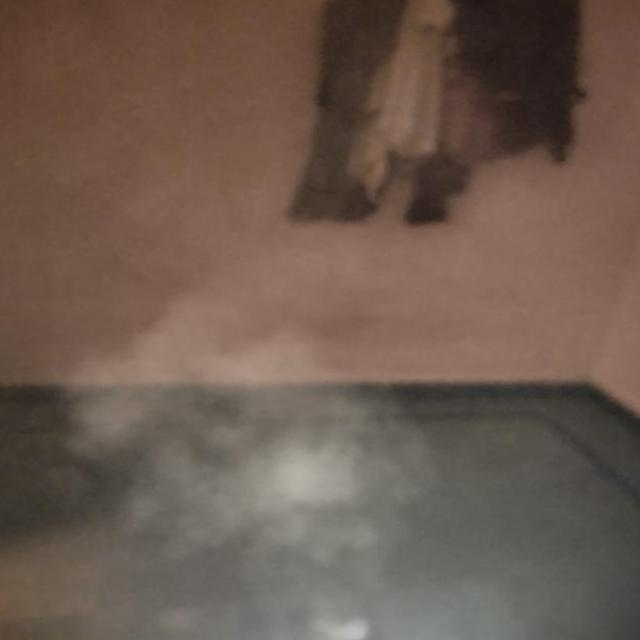fire: (41, 286, 440, 609)
